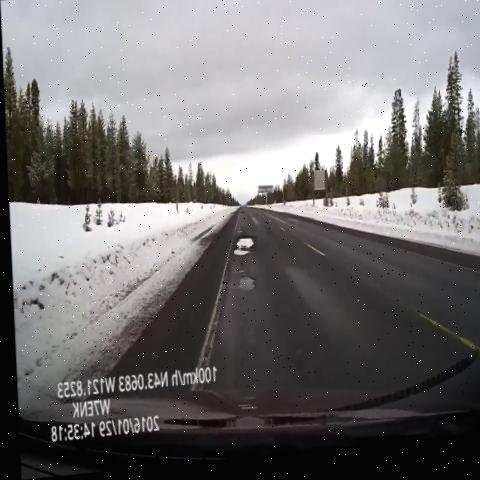pothole: (225, 229, 259, 267), (233, 275, 261, 303), (234, 211, 246, 224)
